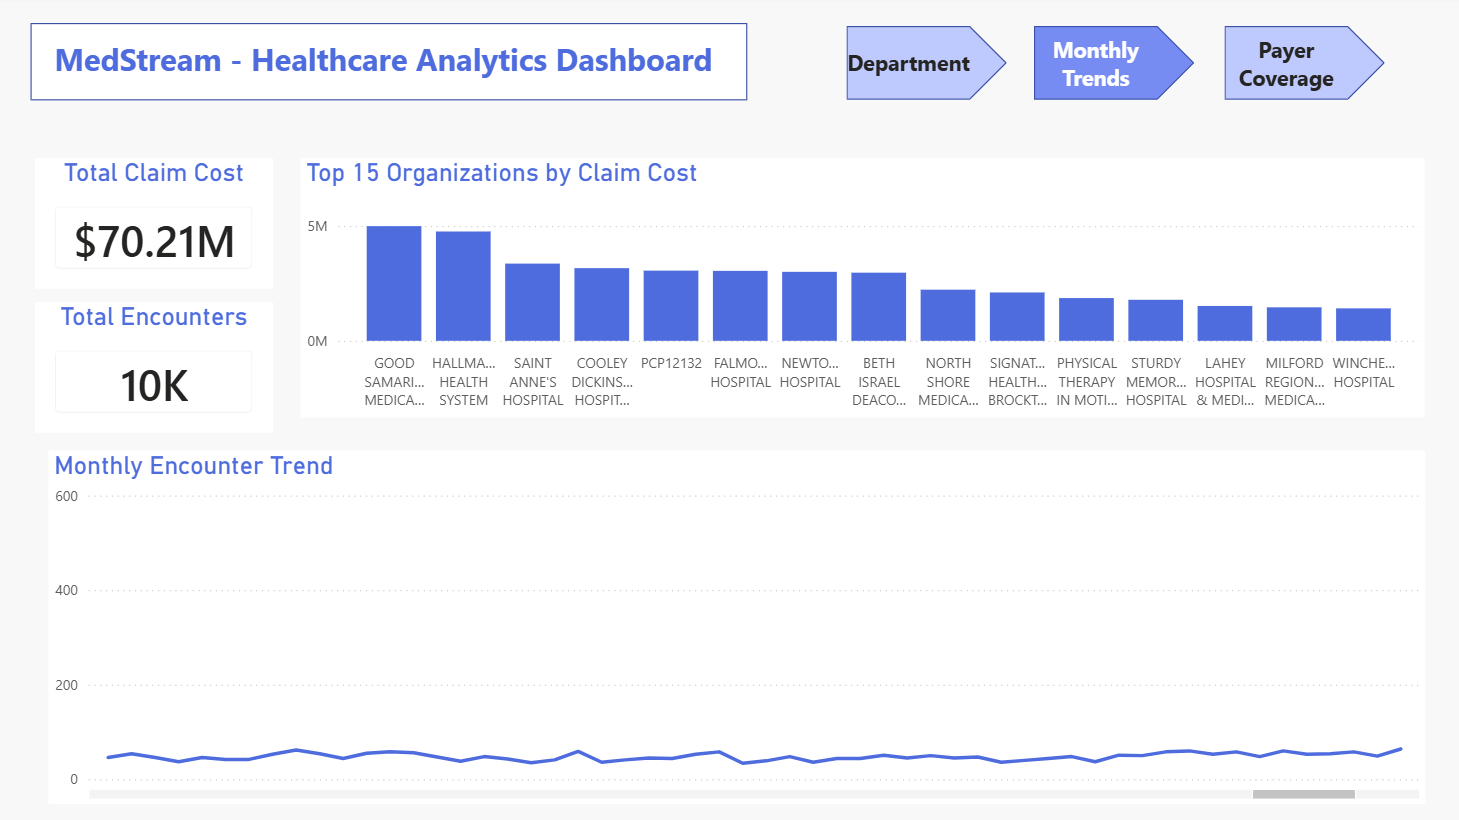

The dashboard page shown, as its layout file describes it:
{"tool":"powerbi","page":{"name":"Organization Monthly Trends","canvas":[1280,720],"ordinal":1},"visuals":[{"type":"lineChart","title":"Monthly Encounter Trend","fields":{"Y":["Sum(encounters_by_org_month.encounter_count)"],"Category":["encounters_by_org_month.YearMonth"]},"box":[47.9,387.7,1191.7,306.3],"z":0},{"type":"columnChart","title":"Top 15 Organizations by Claim Cost","fields":{"Category":["encounters_by_org_month.organization_name"],"Y":["Sum(encounters_by_org_month.total_claim_cost)"]},"box":[266.4,135.6,973.2,224.9],"z":1000},{"type":"cardVisual","title":"Total Claim Cost","fields":{"Data":["Sum(encounters_by_org_month.total_claim_cost)"]},"box":[36.7,135.6,205.8,113.3],"z":2000},{"type":"shape","box":[738.7,20.7,138.8,63.8],"z":3000},{"type":"shape","box":[901.4,20.7,138.8,63.8],"z":4000},{"type":"shape","box":[1065.7,20.7,138.8,63.8],"z":5000},{"type":"shape","box":[31.9,17.5,620.6,67],"z":6000},{"type":"textbox","box":[47.9,25.5,591.9,49.5],"z":7000},{"type":"cardVisual","title":"Total Encounters","fields":{"Data":["Sum(encounters_by_org_month.encounter_count)"]},"box":[36.7,260,205.8,113.3],"z":8000}]}

Visuals, with their boxes in screenshot pixels (x1, y1, x2, y2), scaled from the page's 1280x720 canvas onto the 1459x820 screenshot:
"Monthly Encounter Trend" lineChart: crop(55, 442, 1413, 790)
"Top 15 Organizations by Claim Cost" columnChart: crop(304, 154, 1413, 411)
"Total Claim Cost" cardVisual: crop(42, 154, 276, 283)
shape: crop(842, 24, 1000, 96)
shape: crop(1027, 24, 1186, 96)
shape: crop(1215, 24, 1373, 96)
shape: crop(36, 20, 744, 96)
textbox: crop(55, 29, 729, 85)
"Total Encounters" cardVisual: crop(42, 296, 276, 425)
